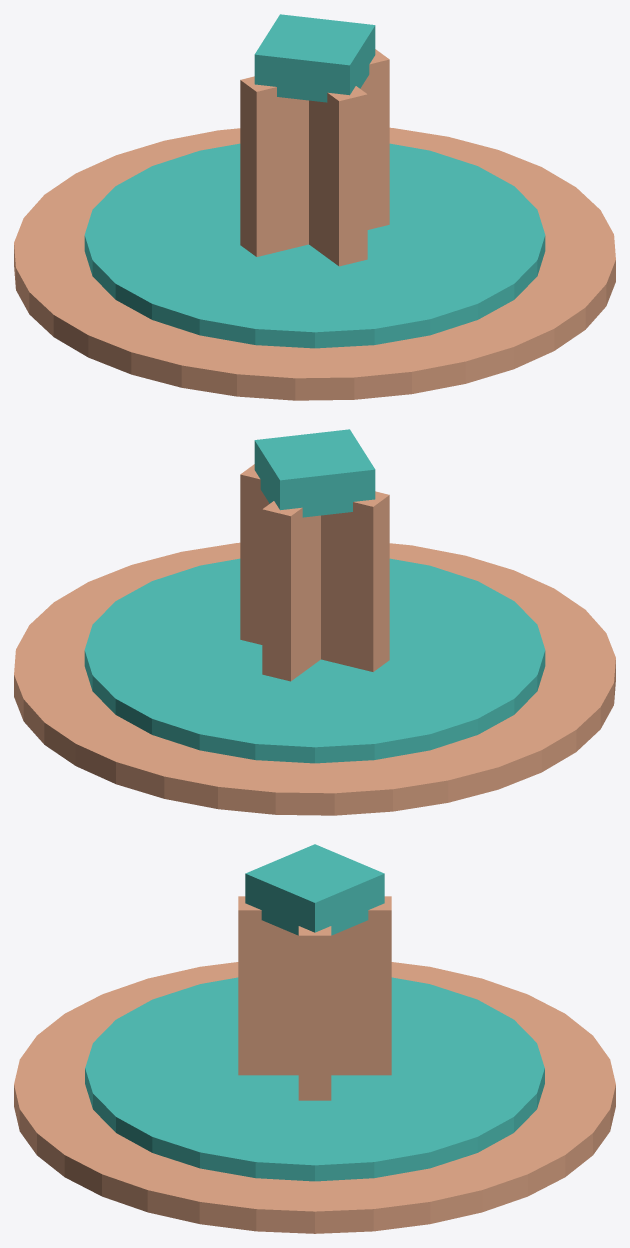
File: rond_point_monument.glb
3 renders of one model, top to bottom at view 1: azimuth 30°, elevation 25°; view 2: azimuth 150°, elevation 25°; view 3: azimuth 270°, elevation 25°, orthographic.
Parts seen in each view (by area): view 1: RoundaboutRing, RoundaboutBase, MoroccanArch1, MoroccanArch2, CrownTop; view 2: RoundaboutRing, RoundaboutBase, MoroccanArch1, MoroccanArch2, CrownTop; view 3: RoundaboutRing, RoundaboutBase, MoroccanArch2, CrownTop, MoroccanArch1.
Part boxes in pixels (left/top/right/bottom): RoundaboutRing: left=84, top=143, right=545, bottom=348; RoundaboutBase: left=14, top=127, right=615, bottom=400; MoroccanArch1: left=240, top=49, right=389, bottom=256; MoroccanArch2: left=309, top=86, right=367, bottom=266; CrownTop: left=254, top=14, right=375, bottom=102; RoundaboutRing: left=84, top=558, right=545, bottom=763; RoundaboutBase: left=14, top=542, right=615, bottom=815; MoroccanArch1: left=240, top=464, right=389, bottom=671; MoroccanArch2: left=262, top=501, right=320, bottom=681; CrownTop: left=254, top=429, right=375, bottom=517; RoundaboutRing: left=85, top=977, right=544, bottom=1181; RoundaboutBase: left=14, top=962, right=615, bottom=1233; MoroccanArch2: left=238, top=896, right=391, bottom=1075; CrownTop: left=245, top=844, right=384, bottom=935; MoroccanArch1: left=298, top=926, right=331, bottom=1100.
Size of the model in its own units: 11 by 4.7 by 11.
